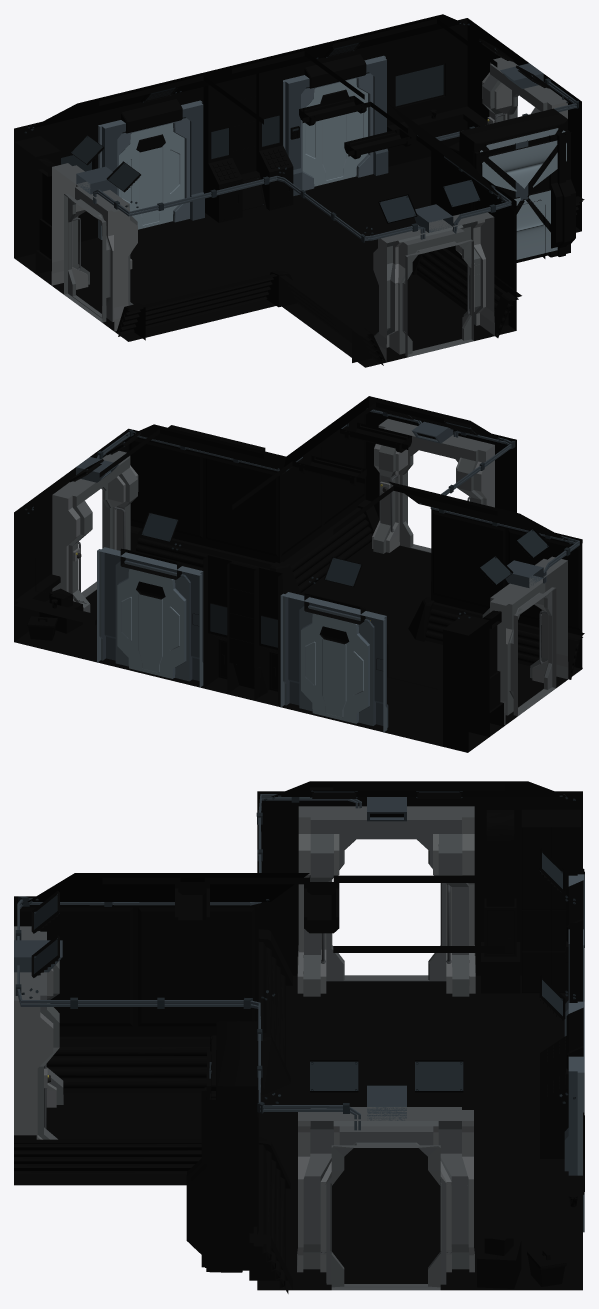
Rendered from ROOMx3T_3.fbx.
3 renders of one model, top to bottom at view 1: azimuth 30°, elevation 25°; view 2: azimuth 150°, elevation 25°; view 3: azimuth 270°, elevation 25°, orthographic. The views are drawn at different scales.
Visible parts, largest first — view 1: Main.002, ROOMx3T_3, Cube.016, Cube.027, OptionEVENTgenerator.003, Cube.017, Cube.025, Cube.028, Main.011, Main.013, Cube.026, Gen.018 (+16 smaller); view 2: Main.002, ROOMx3T_3, Cube.027, Cube.016, OptionEmpty.001, Cube.028, Cube.025, Cube.026, Main.004, Cube.017, Main.013, Main.003 (+14 smaller); view 3: Main.002, ROOMx3T_3, OptionEVENTAIDKIT.003, Cube.028, Main.009, Main.004, Cube.021, Main.013, Cube.016, ventil.023, Main.003, Cube.025 (+21 smaller).
Part boxes in pixels (left/top/right/bottom): Main.002: left=14, top=14, right=581, bottom=367; ROOMx3T_3: left=51, top=57, right=567, bottom=362; Cube.016: left=283, top=54, right=388, bottom=195; Cube.027: left=98, top=99, right=204, bottom=239; OptionEVENTgenerator.003: left=474, top=130, right=568, bottom=262; Cube.017: left=203, top=80, right=242, bottom=222; Cube.025: left=256, top=67, right=293, bottom=210; Cube.028: left=14, top=136, right=60, bottom=273; Main.011: left=118, top=274, right=277, bottom=336; Main.013: left=93, top=78, right=578, bottom=242; Cube.026: left=232, top=74, right=266, bottom=213; Gen.018: left=517, top=130, right=575, bottom=258; Main.002: left=14, top=396, right=582, bottom=752; ROOMx3T_3: left=52, top=419, right=568, bottom=725; Cube.027: left=280, top=592, right=388, bottom=732; Cube.016: left=97, top=547, right=203, bottom=687; OptionEmpty.001: left=156, top=442, right=250, bottom=557; Cube.028: left=443, top=614, right=489, bottom=752; Cube.025: left=203, top=555, right=239, bottom=693; Cube.026: left=229, top=563, right=267, bottom=700; Main.004: left=283, top=507, right=372, bottom=595; Cube.017: left=256, top=567, right=282, bottom=706; Main.013: left=97, top=409, right=579, bottom=583; Main.003: left=136, top=532, right=274, bottom=570; Main.002: left=14, top=781, right=584, bottom=1290; ROOMx3T_3: left=14, top=806, right=475, bottom=1290; OptionEVENTAIDKIT.003: left=211, top=1021, right=257, bottom=1270; Cube.028: left=521, top=809, right=580, bottom=993; Main.009: left=46, top=1036, right=211, bottom=1092; Main.004: left=14, top=1139, right=201, bottom=1174; Cube.021: left=481, top=810, right=520, bottom=993; Main.013: left=15, top=794, right=361, bottom=1130; Cube.016: left=564, top=1001, right=584, bottom=1232; ventil.023: left=310, top=1060, right=463, bottom=1092; Main.003: left=253, top=1144, right=288, bottom=1293; Cube.025: left=540, top=958, right=582, bottom=1158.
Bounding box in the file's own units: 10.02 × 3.51 × 7.68.
